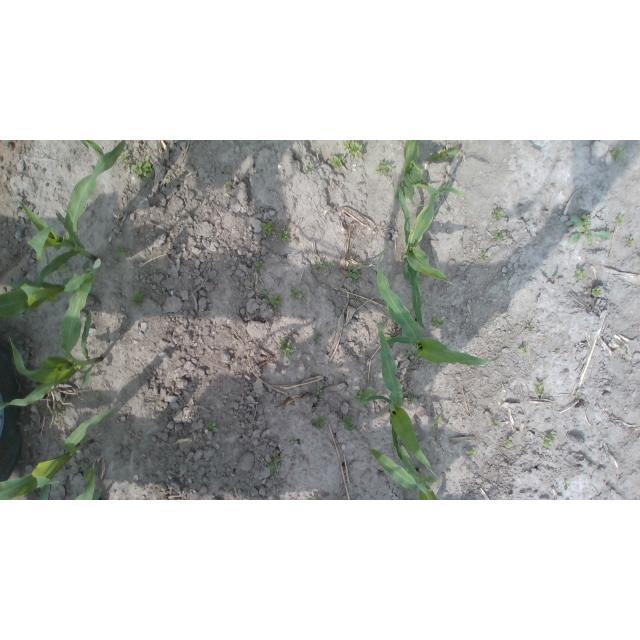Maize: (17, 141, 127, 308), (1, 260, 104, 408), (376, 247, 501, 366), (359, 323, 439, 479), (1, 405, 114, 500), (396, 184, 460, 331), (1, 269, 96, 321), (391, 140, 451, 210), (368, 444, 441, 500), (67, 461, 101, 500), (74, 141, 102, 156)
Weeds: (569, 214, 612, 248), (131, 156, 155, 179), (429, 145, 459, 161), (343, 140, 363, 160), (355, 387, 374, 406), (279, 337, 295, 357), (119, 150, 134, 170), (541, 431, 557, 447), (376, 161, 393, 176), (349, 265, 363, 283), (131, 291, 145, 306), (342, 416, 356, 431), (115, 246, 130, 260), (80, 461, 91, 480), (270, 295, 283, 310), (262, 220, 275, 235), (612, 146, 624, 162), (331, 156, 345, 169), (430, 313, 443, 327), (492, 229, 506, 241), (533, 382, 545, 395), (312, 261, 326, 272), (575, 270, 588, 281), (58, 264, 71, 275), (279, 230, 290, 243), (491, 209, 504, 220), (289, 287, 301, 298), (592, 286, 602, 298), (268, 460, 278, 472), (467, 446, 477, 458), (615, 214, 626, 224), (625, 236, 635, 247), (208, 422, 219, 432), (316, 416, 325, 428), (403, 395, 413, 405), (48, 295, 60, 303), (479, 252, 489, 261), (403, 349, 413, 358), (433, 416, 443, 425), (55, 407, 65, 415), (315, 385, 323, 395), (261, 290, 269, 300), (505, 437, 513, 447), (526, 323, 534, 332), (274, 453, 282, 462), (255, 261, 264, 269), (313, 334, 320, 344), (225, 181, 232, 191), (300, 293, 308, 301), (307, 164, 315, 172), (519, 347, 527, 354), (288, 436, 296, 442), (89, 287, 95, 294), (329, 261, 335, 267), (493, 420, 499, 426), (575, 393, 581, 398), (165, 175, 170, 179), (135, 146, 140, 150), (564, 485, 568, 490), (556, 349, 560, 353)
